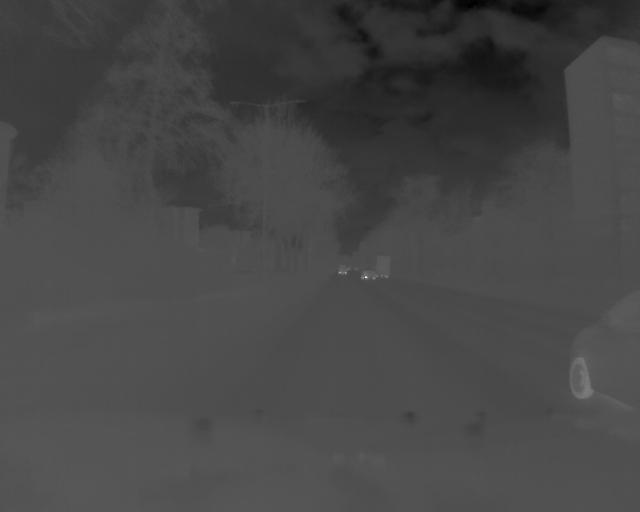car: (569, 288, 640, 409), (374, 253, 392, 280)
